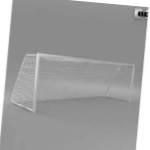goals: (10, 51, 137, 118)
